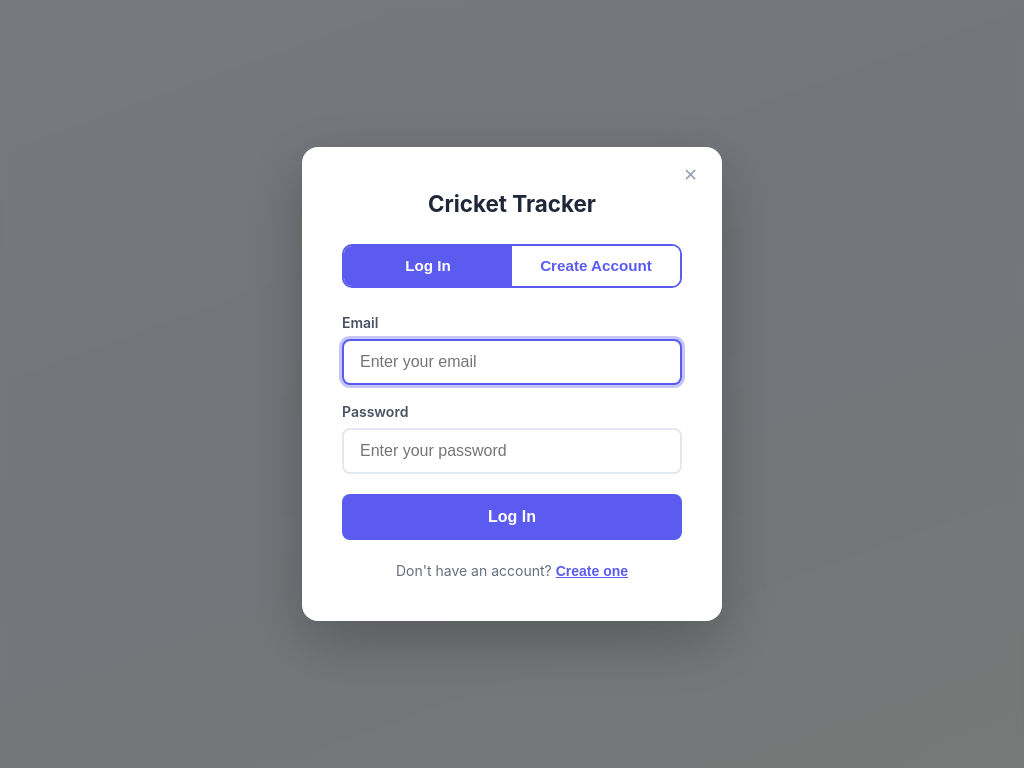
Test: AuthModal submission › surfaces an error message when signIn rejects
The width and height of the screenshot is (1024, 768).
In the field labelled "Email": (512, 362) [342,339,682,385], type "a@b.com"
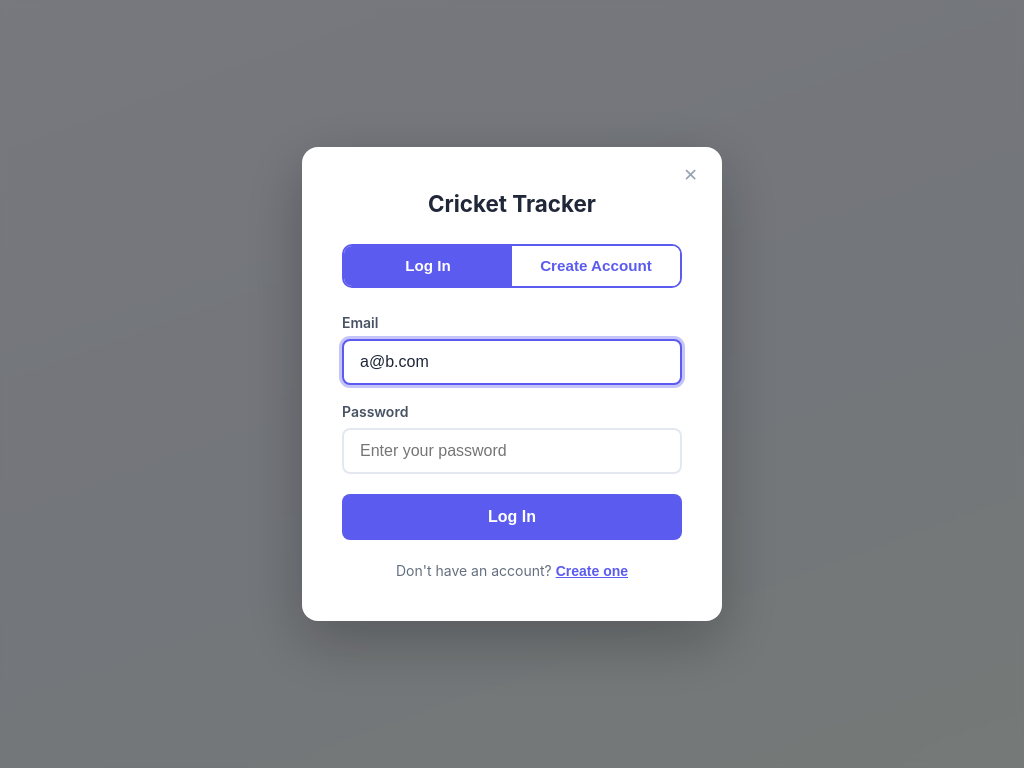
In the password field labelled "Password": (512, 451) [342,428,682,474], type "wrong"
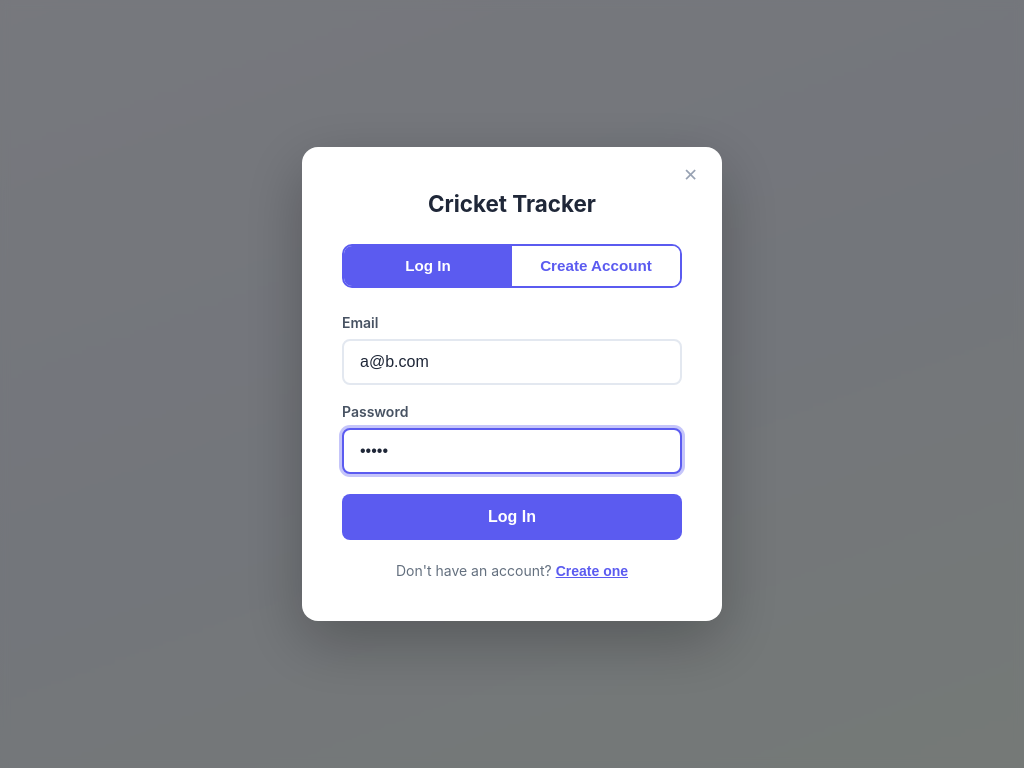
Click the button "Log In": (512, 517) [342,494,682,540]
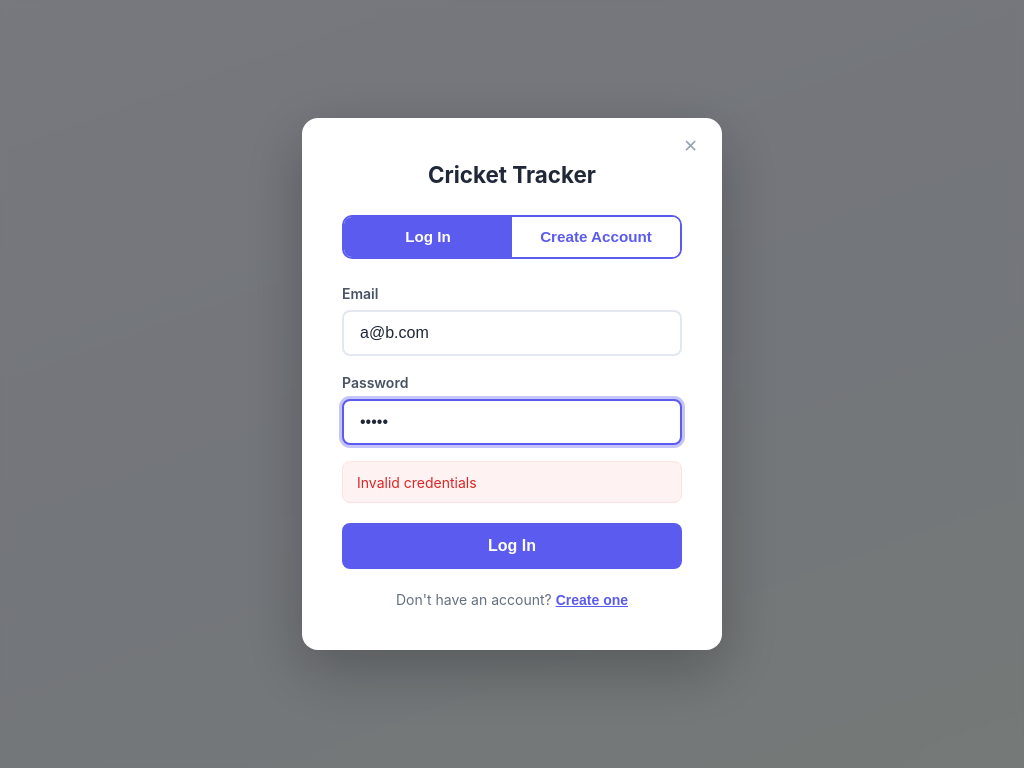
Now the message reads "Invalid credentials", box [357,474,477,491]
